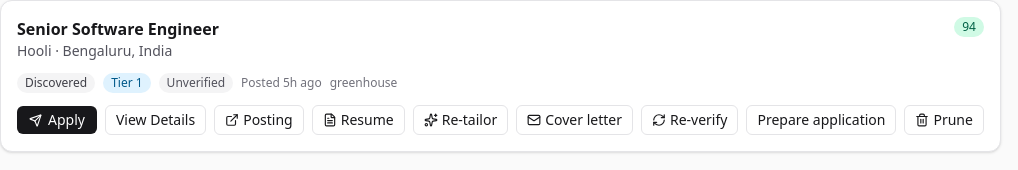
Test: JobCard Actions › launches scout_verify when Re-verify is clicked
Click the button "Re-verify" at (690, 120), box [641,105,738,135]
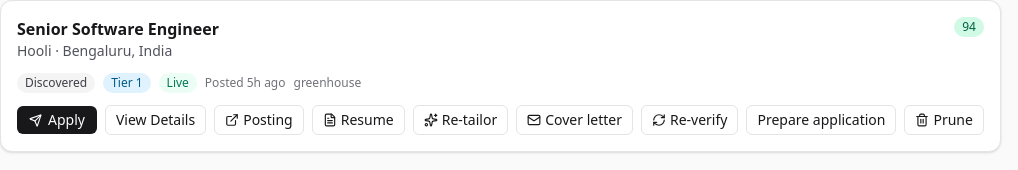
Expected: the text "Live" is shown, [159,73,197,93]
